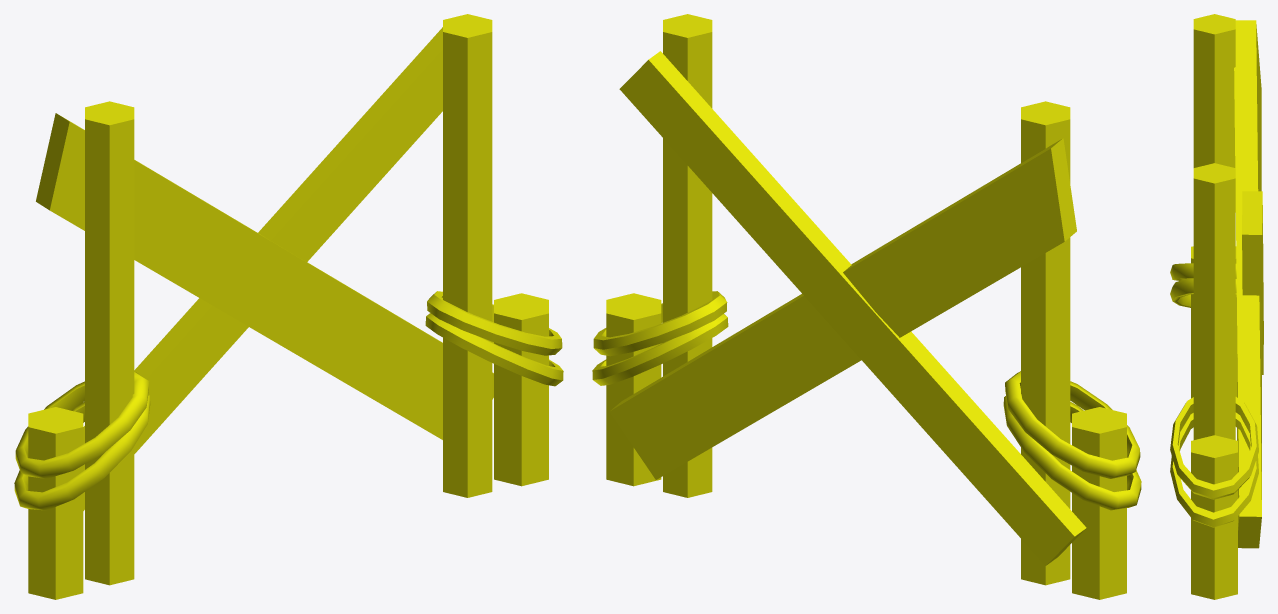
3 renders of one model, left to right at view 1: azimuth 30°, elevation 25°; view 2: azimuth 150°, elevation 25°; view 3: azimuth 270°, elevation 25°, orthographic. The views are drawn at different scales.
Parts seen in each view (by area): view 1: rao; view 2: rao; view 3: rao.
Part boxes in pixels (x1,y1,x2,y2): rao: (14,14,563,599); rao: (592,14,1141,599); rao: (1170,14,1263,599).
Size of the model in its own units: 3.27 by 2.66 by 0.5767.
Materials: 1 (1 with a texture image).
